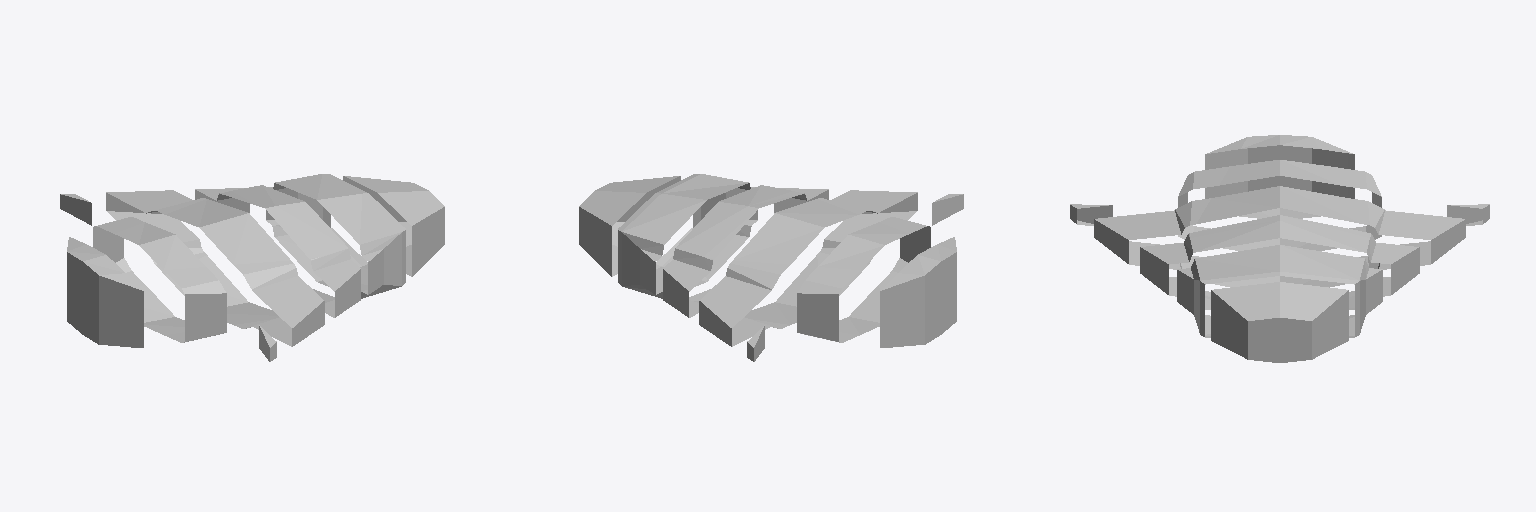
File: SpaceShip1.obj
The picture shows the model from 3 angles: view 1: azimuth 30°, elevation 25°; view 2: azimuth 150°, elevation 25°; view 3: azimuth 270°, elevation 25°; orthographic projection.
Parts seen in each view (by area): view 1: Box002; view 2: Box002; view 3: Box002.
Part boxes in pixels (bbox=[...]): Box002: bbox=[60, 174, 444, 361]; Box002: bbox=[579, 174, 963, 361]; Box002: bbox=[1070, 135, 1489, 362].
Size of the model in its own units: 38.2 by 9.57 by 40.19.